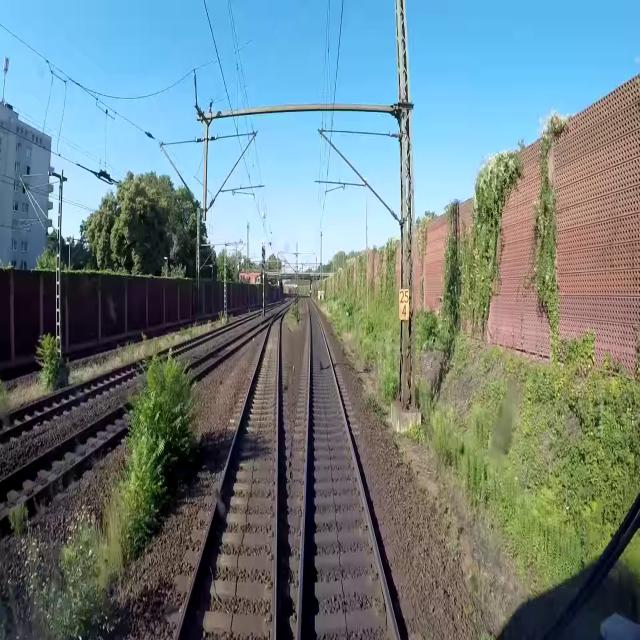rail-track: (0, 318, 270, 515), (178, 316, 280, 639), (302, 305, 395, 639), (0, 338, 199, 430)
